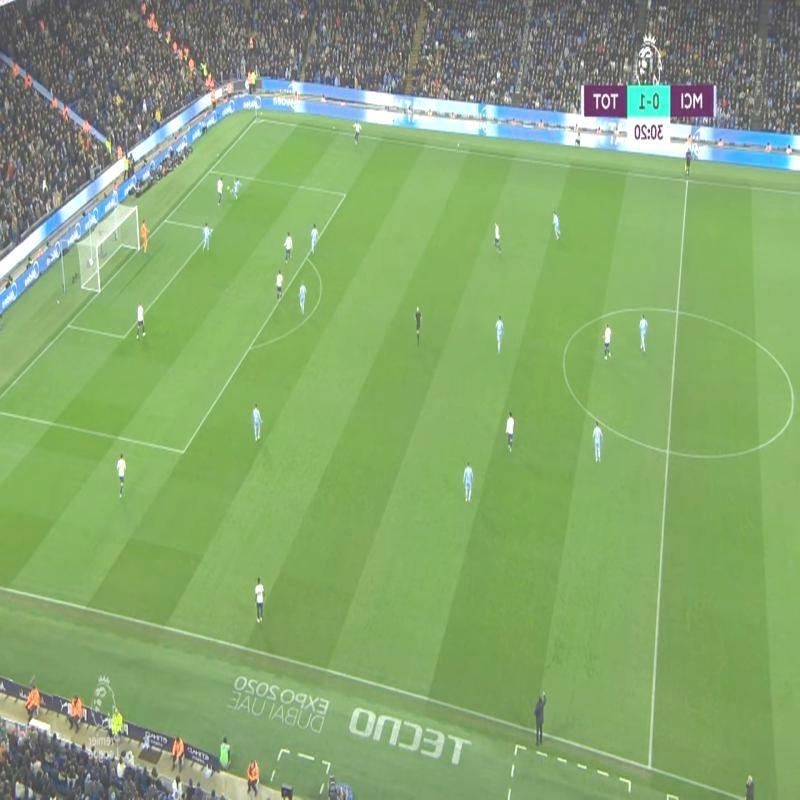1: (248, 112, 265, 126)
10: (301, 251, 314, 264)
11: (238, 340, 254, 356)
12: (175, 444, 191, 460)
13: (681, 172, 693, 190)
14: (669, 302, 685, 318)
15: (660, 442, 676, 459)
16: (640, 759, 658, 779)
2: (204, 159, 216, 182)
3: (160, 212, 168, 228)
4: (61, 318, 77, 334)
7: (206, 219, 218, 243)
8: (116, 327, 131, 342)
9: (338, 187, 352, 201)
c: (783, 394, 799, 412), (556, 348, 570, 362)
